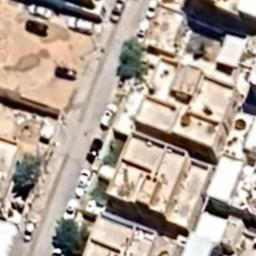SUV: (68, 16, 92, 35), (101, 102, 118, 127), (62, 198, 78, 222), (134, 20, 149, 44), (26, 20, 48, 36), (144, 0, 158, 18)
sedan: (28, 4, 54, 20), (75, 168, 91, 194), (86, 138, 102, 162), (110, 0, 125, 23), (23, 218, 37, 242)
unknown: (56, 65, 76, 80)
